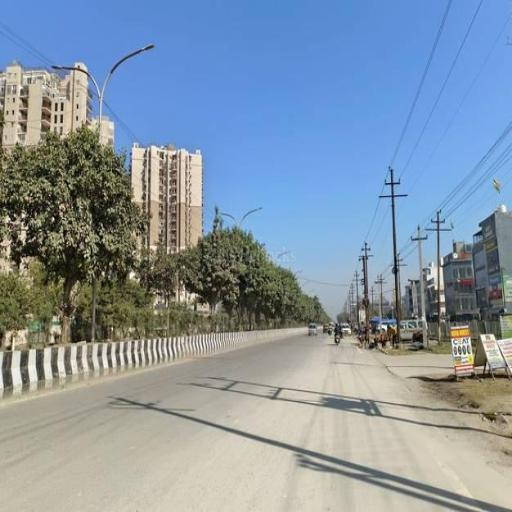building: (4, 55, 115, 170), (130, 140, 214, 290), (471, 197, 512, 308), (440, 243, 472, 331), (410, 269, 436, 329)
electric_pole: (376, 160, 408, 343), (427, 210, 455, 344), (410, 215, 428, 355), (356, 238, 374, 345), (377, 265, 391, 332)
streetlight: (48, 34, 160, 134), (216, 196, 264, 252)
